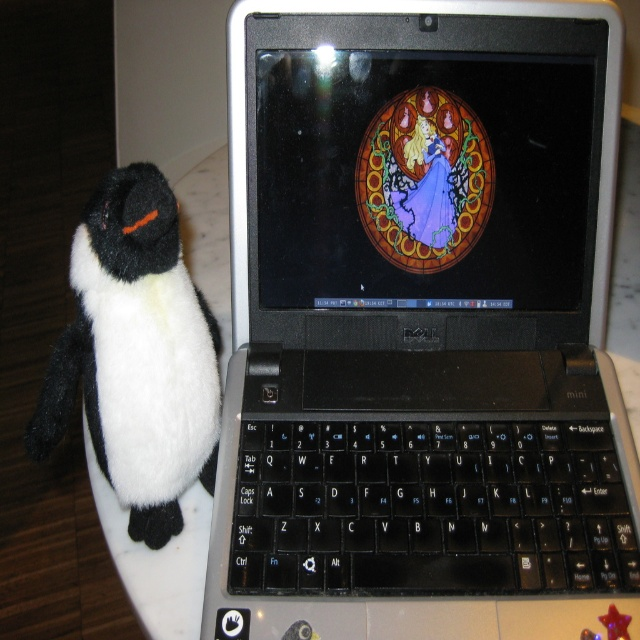Penguin: (26, 164, 224, 548)
